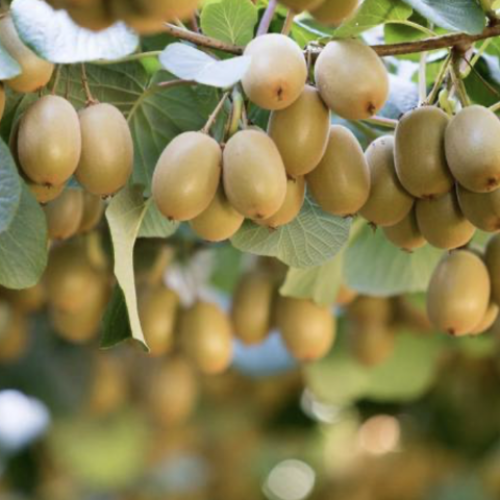kiwi: (388, 96, 470, 217), (150, 108, 230, 232), (62, 93, 144, 199), (313, 34, 396, 129), (209, 119, 288, 217), (424, 241, 496, 341), (16, 88, 81, 196)
